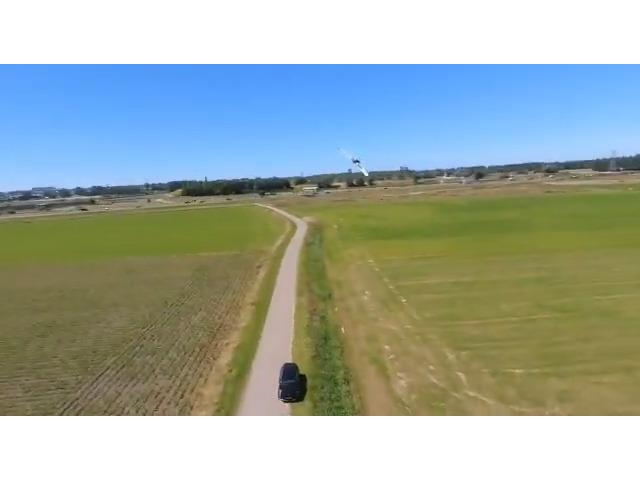Anti-Drone: (330, 134, 382, 186)
